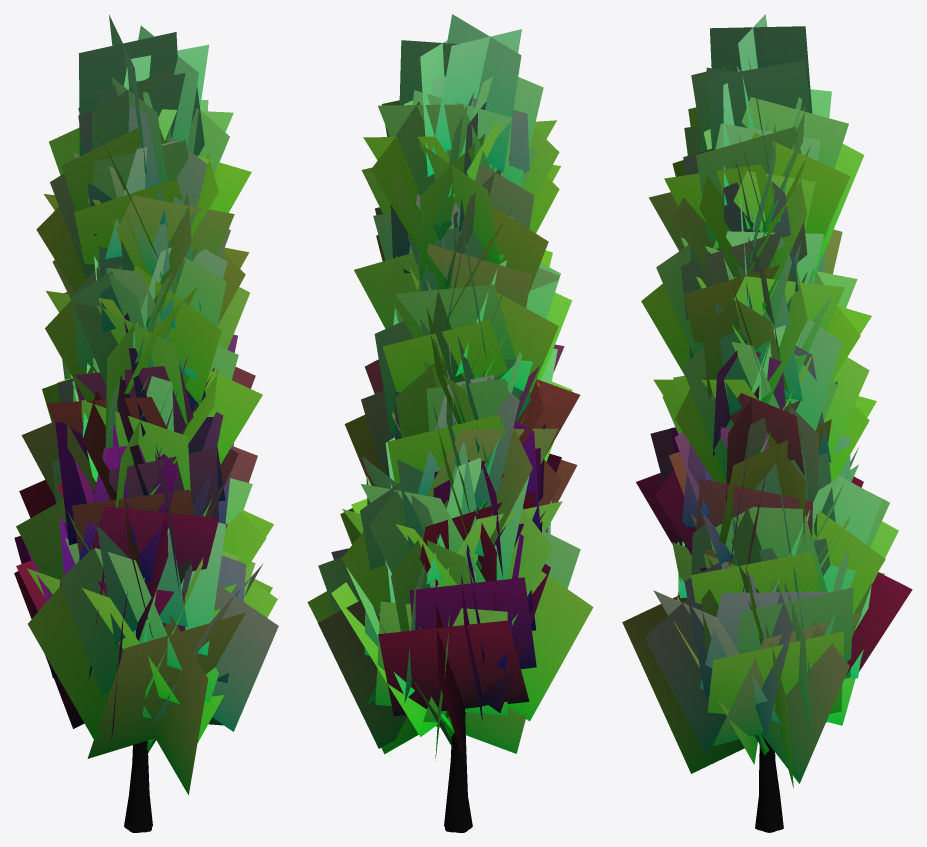
Rendered from Tree_6_1.fbx.
3 renders of one model, left to right at view 1: azimuth 30°, elevation 25°; view 2: azimuth 150°, elevation 25°; view 3: azimuth 270°, elevation 25°, orthographic.
Parts seen in each view (by area): view 1: _1; view 2: _1; view 3: _1.
Boxes of the visible parts, x1=… form: _1: x1=14, y1=15, x2=278, y2=832; _1: x1=307, y1=14, x2=593, y2=832; _1: x1=622, y1=14, x2=912, y2=832.
Bounding box in the file's own units: 513 × 1477 × 489.
